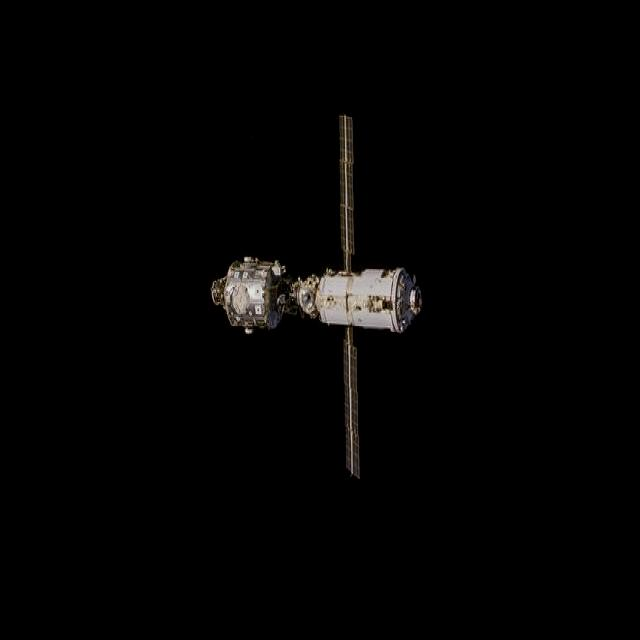medium_debris: (211, 115, 422, 478)
